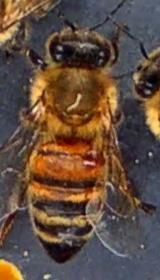varroa_mite: (77, 139, 109, 171)
